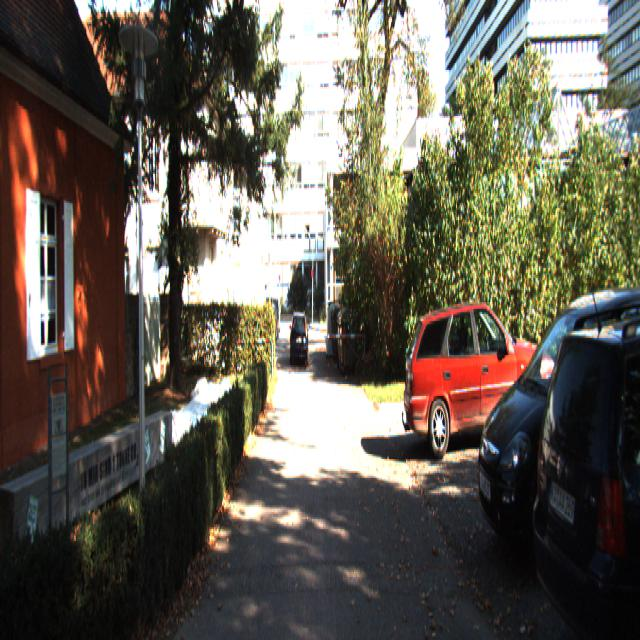Car: (473, 280, 640, 578), (530, 301, 640, 638), (402, 296, 559, 462), (290, 311, 308, 365)
